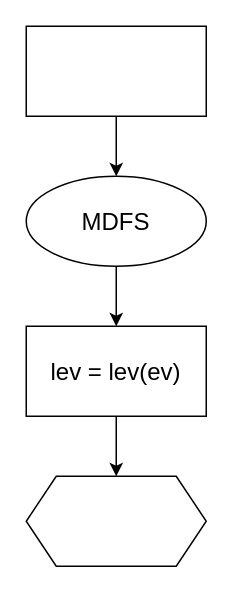
Image size: 233x593. Some labels were removed from this diagram. Here are the shapes that lost their labels. From the top down, the box of each, then its label:
(25, 25, 206, 116): vem = []
(25, 475, 206, 566): i = 0, lev, 1
